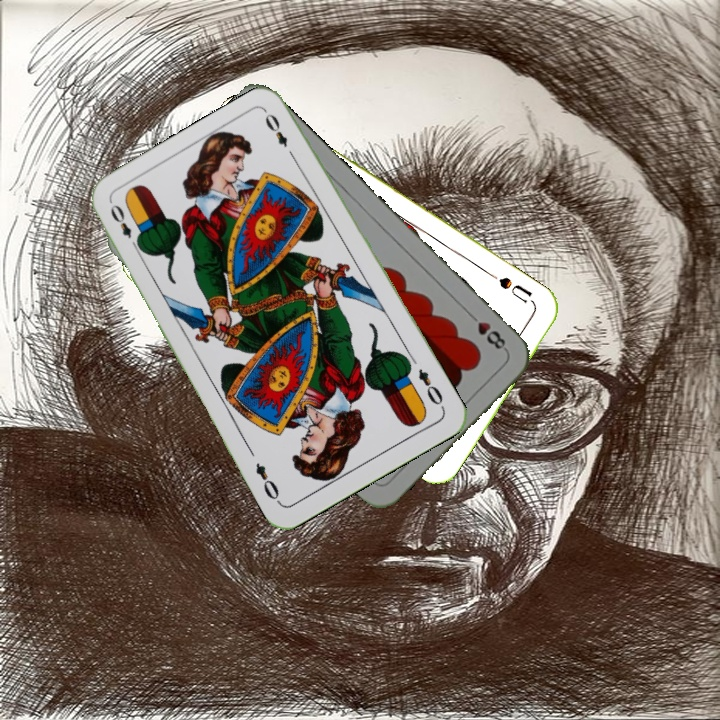EO: (106, 200, 143, 253), (414, 364, 446, 408)
H8: (463, 308, 510, 354)
SU: (494, 272, 539, 309)
